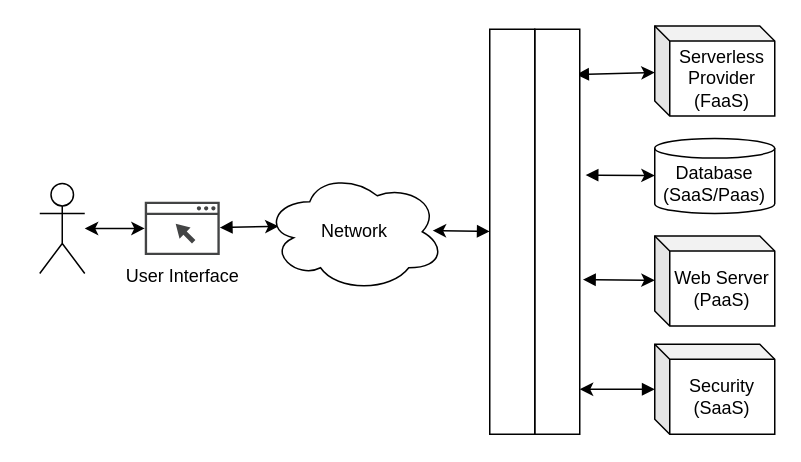
Image size: 801x462. Some labels were removed from this diagram. Here are the shapes that lost their labels. From the top down, the box of each, then its label:
(38, 182, 85, 273): End-user
(488, 28, 535, 434): A P I
(533, 28, 580, 434): S e c u r i t y
